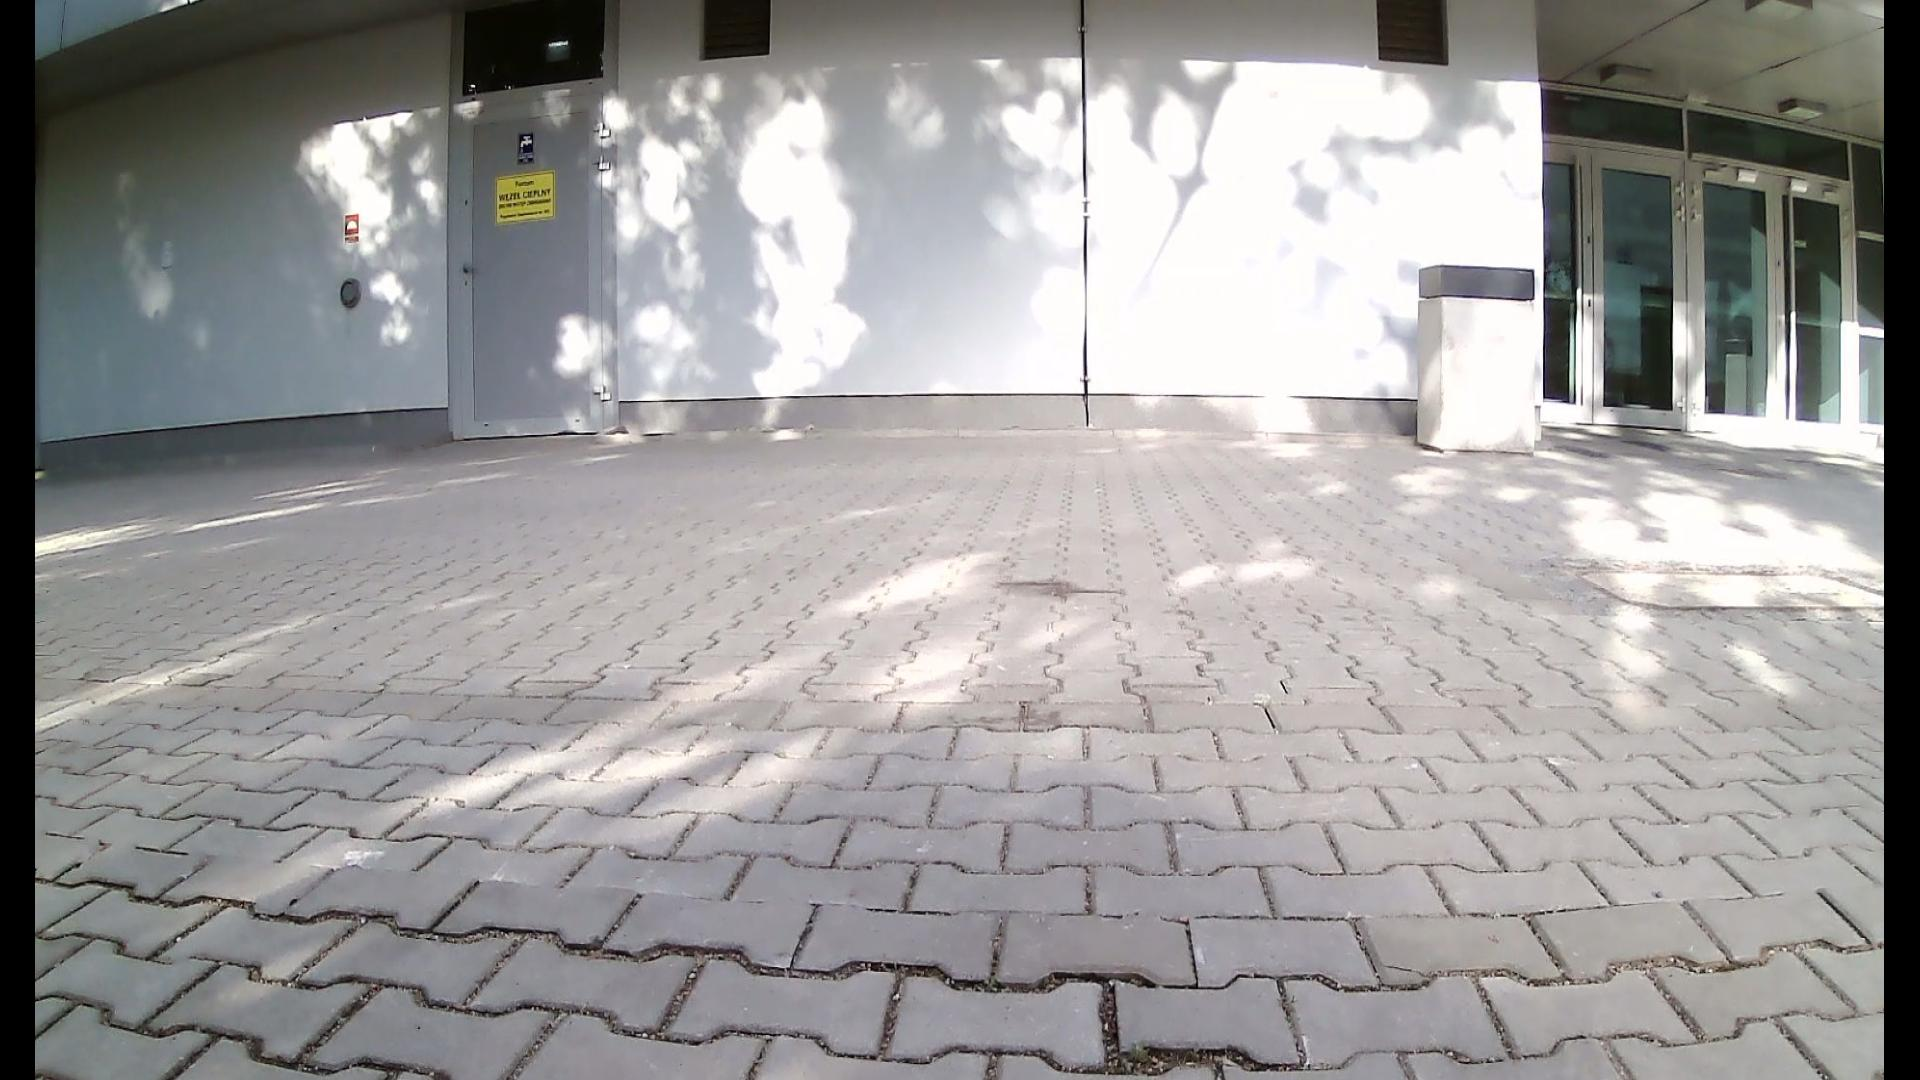wall: (618, 61, 1079, 429)
